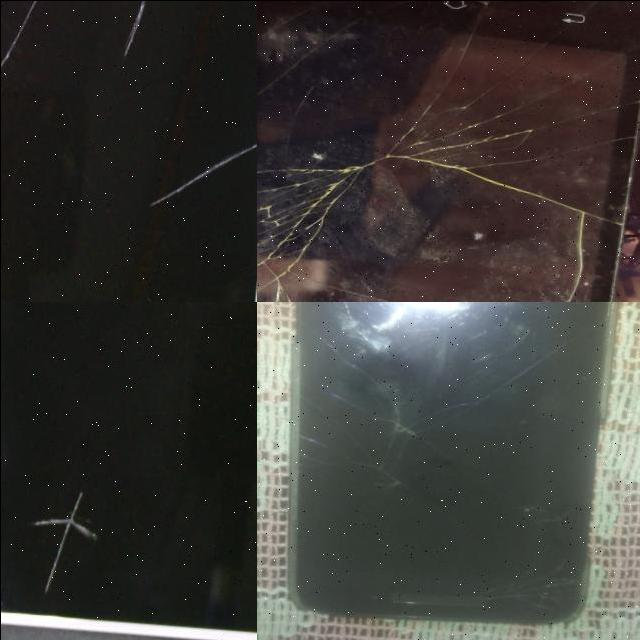scratch: (132, 119, 256, 218), (19, 476, 99, 605), (0, 0, 42, 104), (105, 0, 145, 53)
screen crack: (256, 32, 529, 296), (291, 343, 510, 498), (366, 205, 625, 301)
